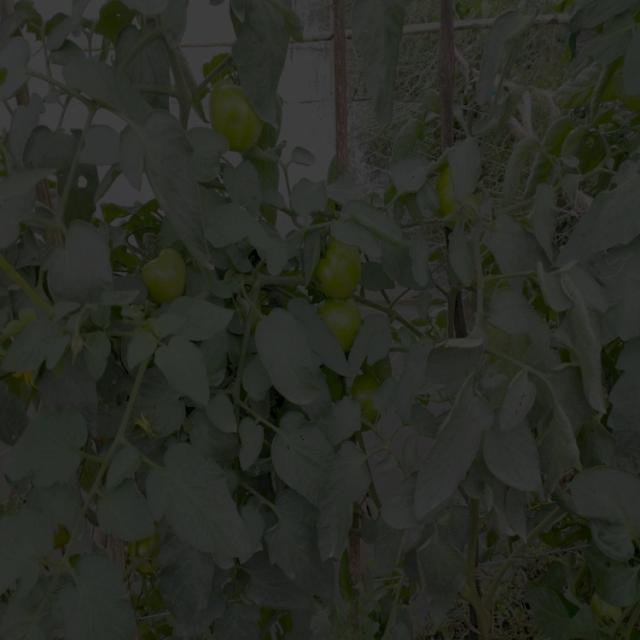tomato: (212, 82, 271, 155), (436, 166, 487, 232), (311, 241, 364, 298), (145, 246, 192, 304), (319, 305, 375, 350), (356, 378, 394, 432), (133, 534, 165, 581)
